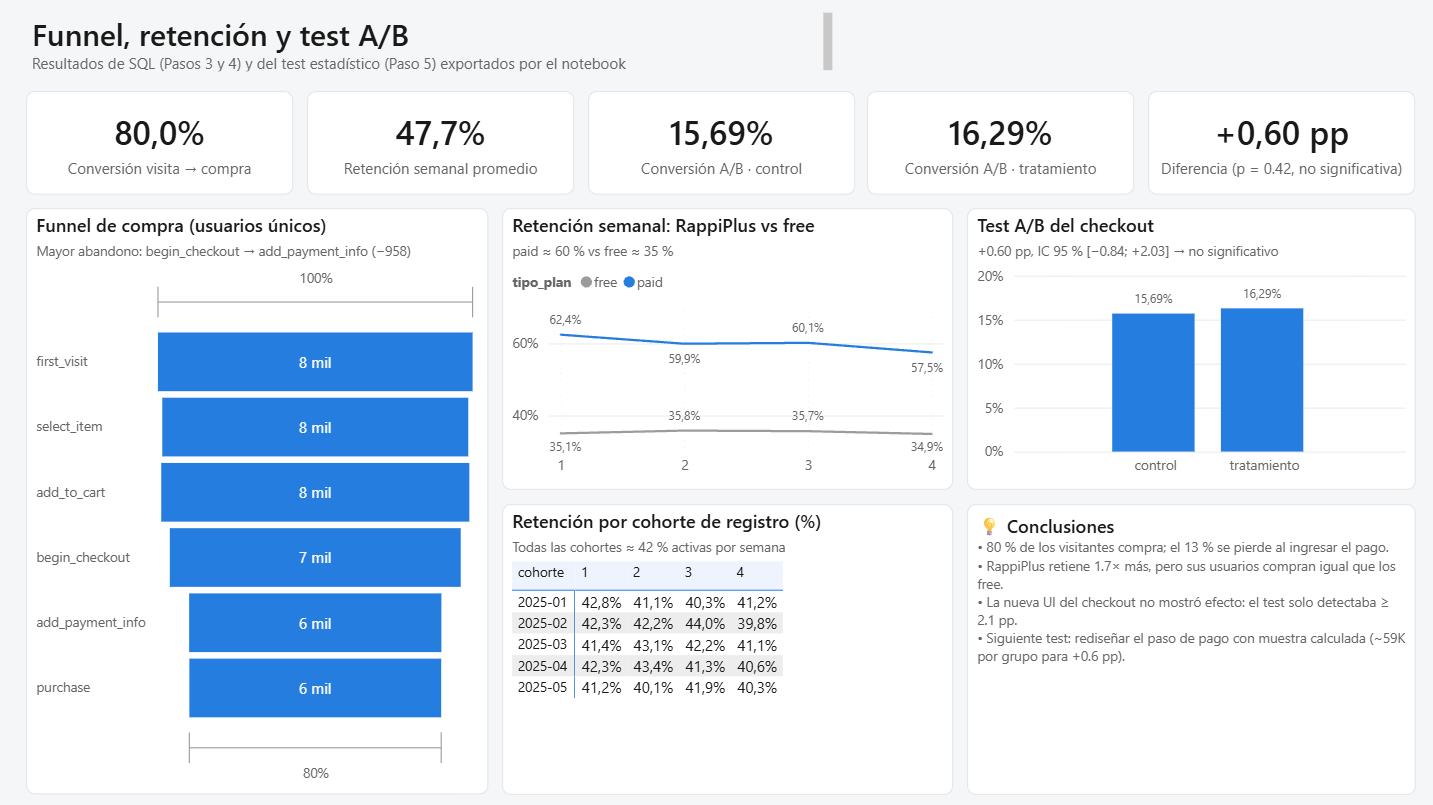

What the dashboard file says about the page in this screenshot:
{"tool":"powerbi","page":{"name":"Funnel, retención y A/B","canvas":[1280,720],"ordinal":4},"visuals":[{"type":"textbox","box":[24,10,720,62],"z":0},{"type":"card","fields":{"Values":["funnel_resumen.Conversión Final %"]},"box":[24,84,237,92],"z":200},{"type":"card","fields":{"Values":["retencion_plan.Retención Plan %"]},"box":[273,84,237,92],"z":201},{"type":"card","fields":{"Values":["ab_test_resumen.Conversión Control"]},"box":[522,84,237,92],"z":202},{"type":"card","fields":{"Values":["ab_test_resumen.Conversión Tratamiento"]},"box":[770,84,237,92],"z":203},{"type":"card","fields":{"Values":["ab_test_resumen.Diferencia pp"]},"box":[1019,84,237,92],"z":204},{"type":"funnel","title":"Funnel de compra (usuarios únicos)","fields":{"Category":["funnel_resumen.nombre_evento"],"Y":["funnel_resumen.Usuarios Funnel"]},"box":[24,188,410,520],"z":300},{"type":"lineChart","title":"Retención semanal: RappiPlus vs free","fields":{"Category":["retencion_plan.semana"],"Y":["retencion_plan.Retención Plan %"],"Series":["retencion_plan.tipo_plan"]},"box":[446,188,400,250],"z":301},{"type":"pivotTable","title":"Retención por cohorte de registro (%)","fields":{"Rows":["retencion_cohortes.cohorte"],"Columns":["retencion_cohortes.semana"],"Values":["retencion_cohortes.Retención Cohorte %"]},"box":[446,450,400,258],"z":302},{"type":"clusteredColumnChart","title":"Test A/B del checkout","fields":{"Category":["ab_test_resumen.variante"],"Y":["ab_test_resumen.Conversión A/B"]},"box":[858,188,398,250],"z":303},{"type":"textbox","box":[858,450,398,258],"z":304}]}

Visuals, with their boxes in screenshot pixels (x1, y1, x2, y2), scaled from the page's 1280x720 canvas onto the 1433x805 screenshot:
textbox: detection(27, 11, 833, 80)
card - funnel_resumen.Conversión Final %: detection(27, 94, 292, 197)
card - retencion_plan.Retención Plan %: detection(306, 94, 571, 197)
card - ab_test_resumen.Conversión Control: detection(584, 94, 850, 197)
card - ab_test_resumen.Conversión Tratamiento: detection(862, 94, 1127, 197)
card - ab_test_resumen.Diferencia pp: detection(1141, 94, 1406, 197)
"Funnel de compra (usuarios únicos)" funnel: detection(27, 210, 486, 792)
"Retención semanal: RappiPlus vs free" lineChart: detection(499, 210, 947, 490)
"Retención por cohorte de registro (%)" pivotTable: detection(499, 503, 947, 792)
"Test A/B del checkout" clusteredColumnChart: detection(961, 210, 1406, 490)
textbox: detection(961, 503, 1406, 792)
